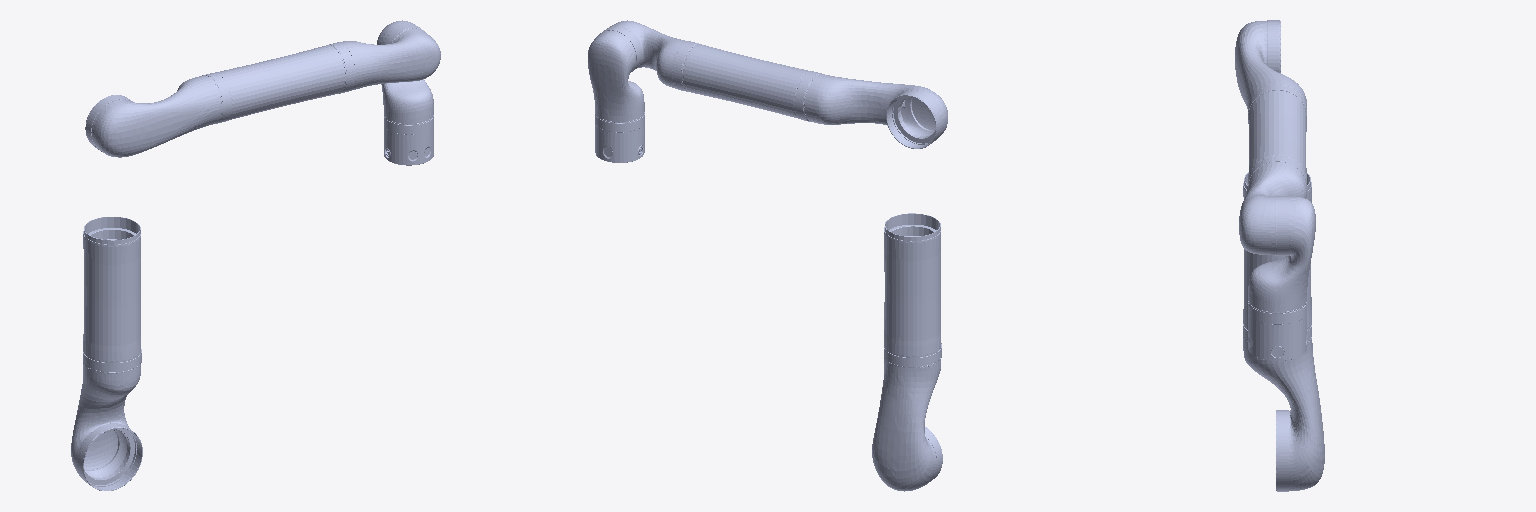
The robot description file, URDF, robot "tcb705l":
<?xml version="1.0" encoding="utf-8"?>
<!-- This URDF was automatically created by SolidWorks to URDF Exporter! Originally created by Stephen Brawner (brawner@gmail.com) 
     Commit Version: 1.6.0-4-g7f85cfe  Build Version: 1.6.7995.38578
     For more information, please see http://wiki.ros.org/sw_urdf_exporter -->
<robot
  name="tcb705l">
  <mujoco>
    <compiler
      meshdir="../meshes/"
      discardvisual="false"
    />
  </mujoco> 
  <link
    name="link0">
    <inertial>
      <origin
        xyz="-0.00203916786698491 0.000208461233542917 0.0437970464318419"
        rpy="0 0 0" />
      <mass
        value="0.230943297728628" />
      <inertia
        ixx="0.000578857931988572"
        ixy="2.4964429515839E-06"
        ixz="-3.62761994221811E-06"
        iyy="0.000597326060992728"
        iyz="8.87603974516206E-07"
        izz="0.000630268815467391" />
    </inertial>
    <visual>
      <origin
        xyz="0 0 0"
        rpy="0 0 0" />
      <geometry>
        <mesh
          filename="package://tl_description/meshes/tcb705l/link0.STL" />
      </geometry>
      <material
        name="">
        <color
          rgba="0.792156862745098 0.819607843137255 0.933333333333333 1" />
      </material>
    </visual>
    <collision>
      <origin
        xyz="0 0 0"
        rpy="0 0 0" />
      <geometry>
        <mesh
          filename="package://tl_description/meshes/tcb705l/link0.STL" />
      </geometry>
    </collision>
  </link>
  <link
    name="link1">
    <inertial>
      <origin
        xyz="-2.82592835967467E-06 -0.0149440554612562 0.0760738628611228"
        rpy="0 0 0" />
      <mass
        value="0.188795049535535" />
      <inertia
        ixx="0.000644330974536614"
        ixy="5.55804168466935E-08"
        ixz="-5.4092174493778E-08"
        iyy="0.000669839544820846"
        iyz="0.000101917330586459"
        izz="0.000292784373513458" />
    </inertial>
    <visual>
      <origin
        xyz="0 0 0"
        rpy="0 0 0" />
      <geometry>
        <mesh
          filename="package://tl_description/meshes/tcb705l/link1.STL" />
      </geometry>
      <material
        name="">
        <color
          rgba="0.792156862745098 0.819607843137255 0.933333333333333 1" />
      </material>
    </visual>
    <collision>
      <origin
        xyz="0 0 0"
        rpy="0 0 0" />
      <geometry>
        <mesh
          filename="package://tl_description/meshes/tcb705l/link1.STL" />
      </geometry>
    </collision>
  </link>
  <joint
    name="joint1"
    type="revolute">
    <origin
      xyz="0 0 0.12215"
      rpy="0 0 0" />
    <parent
      link="link0" />
    <child
      link="link1" />
    <axis
      xyz="0 0 1" />
    <limit
      lower="-3.1226"
      upper="3.1226"
      effort="0"
      velocity="0" />
  </joint>
  <link
    name="link2">
    <inertial>
      <origin
        xyz="-4.20257383742766E-06 -0.19194400434504 -0.000180313359437802"
        rpy="0 0 0" />
      <mass
        value="0.528784681879454" />
      <inertia
        ixx="0.00599971810886578"
        ixy="1.42660874273815E-07"
        ixz="5.33946684288791E-10"
        iyy="0.000724362027518048"
        iyz="-0.00053988079982275"
        izz="0.00598246095196836" />
    </inertial>
    <visual>
      <origin
        xyz="0 0 0"
        rpy="0 0 0" />
      <geometry>
        <mesh
          filename="package://tl_description/meshes/tcb705l/link2.STL" />
      </geometry>
      <material
        name="">
        <color
          rgba="0.792156862745098 0.819607843137255 0.933333333333333 1" />
      </material>
    </visual>
    <collision>
      <origin
        xyz="0 0 0"
        rpy="0 0 0" />
      <geometry>
        <mesh
          filename="package://tl_description/meshes/tcb705l/link2.STL" />
      </geometry>
    </collision>
  </link>
  <joint
    name="joint2"
    type="revolute">
    <origin
      xyz="0 0.00665 0.14085"
      rpy="-1.5708 0 0" />
    <parent
      link="link1" />
    <child
      link="link2" />
    <axis
      xyz="0 0 1" />
    <limit
      lower="-2.3550"
      upper="2.3550"
      effort="0"
      velocity="0" />
  </joint>
  <link
    name="link3">
    <inertial>
      <origin
        xyz="5.14309382409964E-06 0.016397275627194 0.085950743765835"
        rpy="0 0 0" />
      <mass
        value="0.168577493982053" />
      <inertia
        ixx="0.000629527693750699"
        ixy="-2.01846512704515E-08"
        ixz="-6.31481179014199E-08"
        iyy="0.000646662243008361"
        iyz="-9.33674517466635E-05"
        izz="0.000173965232232951" />
    </inertial>
    <visual>
      <origin
        xyz="0 0 0"
        rpy="0 0 0" />
      <geometry>
        <mesh
          filename="package://tl_description/meshes/tcb705l/link3.STL" />
      </geometry>
      <material
        name="">
        <color
          rgba="0.792156862745098 0.819607843137255 0.933333333333333 1" />
      </material>
    </visual>
    <collision>
      <origin
        xyz="0 0 0"
        rpy="0 0 0" />
      <geometry>
        <mesh
          filename="package://tl_description/meshes/tcb705l/link3.STL" />
      </geometry>
    </collision>
  </link>
  <joint
    name="joint3"
    type="revolute">
    <origin
      xyz="0 -0.35915 -0.00665"
      rpy="1.5708 0 0" />
    <parent
      link="link2" />
    <child
      link="link3" />
    <axis
      xyz="0 0 1" />
    <limit
      lower="-3.1226"
      upper="3.1226"
      effort="0"
      velocity="0" />
  </joint>
  <link
    name="link4">
    <inertial>
      <origin
        xyz="0.190684803100533 4.69170126971008E-07 -0.00158652834175867"
        rpy="0 0 0" />
      <mass
        value="0.422517119677072" />
      <inertia
        ixx="0.000427800394386953"
        ixy="9.2075035715961E-08"
        ixz="-0.000428033591481068"
        iyy="0.00489098696748853"
        iyz="-2.31809156229144E-09"
        izz="0.0048724700842241" />
    </inertial>
    <visual>
      <origin
        xyz="0 0 0"
        rpy="0 0 0" />
      <geometry>
        <mesh
          filename="package://tl_description/meshes/tcb705l/link4.STL" />
      </geometry>
      <material
        name="">
        <color
          rgba="0.792156862745098 0.819607843137255 0.933333333333333 1" />
      </material>
    </visual>
    <collision>
      <origin
        xyz="0 0 0"
        rpy="0 0 0" />
      <geometry>
        <mesh
          filename="package://tl_description/meshes/tcb705l/link4.STL" />
      </geometry>
    </collision>
  </link>
  <joint
    name="joint4"
    type="revolute">
    <origin
      xyz="0 -0.00515 0.16035"
      rpy="-1.5708 0 0" />
    <parent
      link="link3" />
    <child
      link="link4" />
    <axis
      xyz="0 0 1" />
    <limit
      lower="-4.0666"
      upper="0.9250"
      effort="0"
      velocity="0" />
  </joint>
  <link
    name="link5">
    <inertial>
      <origin
        xyz="-5.11053962792829E-06 -0.0131445599008326 -0.0626746043765331"
        rpy="0 0 0" />
      <mass
        value="0.0899817886880056" />
      <inertia
        ixx="0.00020480849036662"
        ixy="-1.16222565734855E-08"
        ixz="-4.07643013488881E-08"
        iyy="0.00020796973831797"
        iyz="-3.60478114239073E-05"
        izz="7.75189799131768E-05" />
    </inertial>
    <visual>
      <origin
        xyz="0 0 0"
        rpy="0 0 0" />
      <geometry>
        <mesh
          filename="package://tl_description/meshes/tcb705l/link5.STL" />
      </geometry>
      <material
        name="">
        <color
          rgba="0.792156862745098 0.819607843137255 0.933333333333333 1" />
      </material>
    </visual>
    <collision>
      <origin
        xyz="0 0 0"
        rpy="0 0 0" />
      <geometry>
        <mesh
          filename="package://tl_description/meshes/tcb705l/link5.STL" />
      </geometry>
    </collision>
  </link>
  <joint
    name="joint5"
    type="revolute">
    <origin
      xyz="0.36715 0 0.00515"
      rpy="1.5708 0 -1.5708" />
    <parent
      link="link4" />
    <child
      link="link5" />
    <axis
      xyz="0 0 -1" />
    <limit
      lower="-3.1226"
      upper="3.1226"
      effort="0"
      velocity="0" />
  </joint>
  <link
    name="link6">
    <inertial>
      <origin
        xyz="-0.0398707135154288 -1.2964033449081E-05 -0.00873817260996444"
        rpy="0 0 0" />
      <mass
        value="0.0915267307351342" />
      <inertia
        ixx="8.07130887981508E-05"
        ixy="3.6229354846431E-08"
        ixz="3.1588735111629E-05"
        iyy="0.00016700603106285"
        iyz="-1.2709028878144E-08"
        izz="0.000170834795985472" />
    </inertial>
    <visual>
      <origin
        xyz="0 0 0"
        rpy="0 0 0" />
      <geometry>
        <mesh
          filename="package://tl_description/meshes/tcb705l/link6.STL" />
      </geometry>
      <material
        name="">
        <color
          rgba="0.792156862745098 0.819607843137255 0.933333333333333 1" />
      </material>
    </visual>
    <collision>
      <origin
        xyz="0 0 0"
        rpy="0 0 0" />
      <geometry>
        <mesh
          filename="package://tl_description/meshes/tcb705l/link6.STL" />
      </geometry>
    </collision>
  </link>
  <joint
    name="joint6"
    type="revolute">
    <origin
      xyz="0 0.00615 -0.11335"
      rpy="1.5708 0 0" />
    <parent
      link="link5" />
    <child
      link="link6" />
    <axis
      xyz="0 0 -1" />
    <limit
      lower="-3.8921"
      upper="0.7505"
      effort="0"
      velocity="0" />
  </joint>
  <link
    name="link7">
    <inertial>
      <origin
        xyz="-0.000389397497443489 8.96781010539561E-05 -0.0228822715412031"
        rpy="0 0 0" />
      <mass
        value="0.0756964619101267" />
      <inertia
        ixx="5.73362607115089E-05"
        ixy="-1.00642146248315E-08"
        ixz="3.2415745434486E-07"
        iyy="5.7604236864589E-05"
        iyz="-1.43757533270585E-08"
        izz="7.09157247150554E-05" />
    </inertial>
    <visual>
      <origin
        xyz="0 0 0"
        rpy="0 0 0" />
      <geometry>
        <mesh
          filename="package://tl_description/meshes/tcb705l/link7.STL" />
      </geometry>
      <material
        name="">
        <color
          rgba="0.792156862745098 0.819607843137255 0.933333333333333 1" />
      </material>
    </visual>
    <collision>
      <origin
        xyz="0 0 0"
        rpy="0 0 0" />
      <geometry>
        <mesh
          filename="package://tl_description/meshes/tcb705l/link7.STL" />
      </geometry>
    </collision>
  </link>
  <joint
    name="joint7"
    type="revolute">
    <origin
      xyz="-0.1615 0 0.00615"
      rpy="1.5708 0 -1.5708" />
    <parent
      link="link6" />
    <child
      link="link7" />
    <axis
      xyz="0 0 1" />
    <limit
      lower="-3.1226"
      upper="3.1226"
      effort="0"
      velocity="0" />
  </joint>
</robot>

--- Facts derived from the render (not from the file) ---
3 views of the same robot in one strip: view 1: azimuth 30°, elevation 25°; view 2: azimuth 150°, elevation 25°; view 3: azimuth 270°, elevation 25° (orthographic).
Robot: tcb705l — 8 links, 7 joints (7 revolute); root link link0; default pose: every joint at zero.
Links seen in each view (by area): view 1: link2, link4, link5, link6, link7; view 2: link2, link4, link6, link5, link7; view 3: link2, link4, link6, link5, link7.
Boxes of the visible links, box(x1,y1,x2,y2) form: link2: box(71, 217, 142, 490); link4: box(85, 45, 345, 157); link5: box(329, 28, 440, 93); link6: box(377, 20, 433, 123); link7: box(384, 115, 433, 165); link2: box(872, 213, 942, 491); link4: box(682, 44, 947, 148); link6: box(588, 26, 644, 121); link5: box(610, 20, 698, 91); link7: box(595, 112, 644, 162); link2: box(1243, 172, 1324, 491); link4: box(1235, 20, 1306, 176); link6: box(1248, 196, 1315, 311); link5: box(1239, 156, 1306, 254); link7: box(1248, 301, 1306, 360).
Bounding box of the posed robot: 0.5643 × 0.1071 × 0.6093 m (x, y, z).
Meshes: 8 distinct files referenced, 5 mesh visuals loaded (5 binary STL); not drawn: 3 (reference not matched to a file when rendering).
